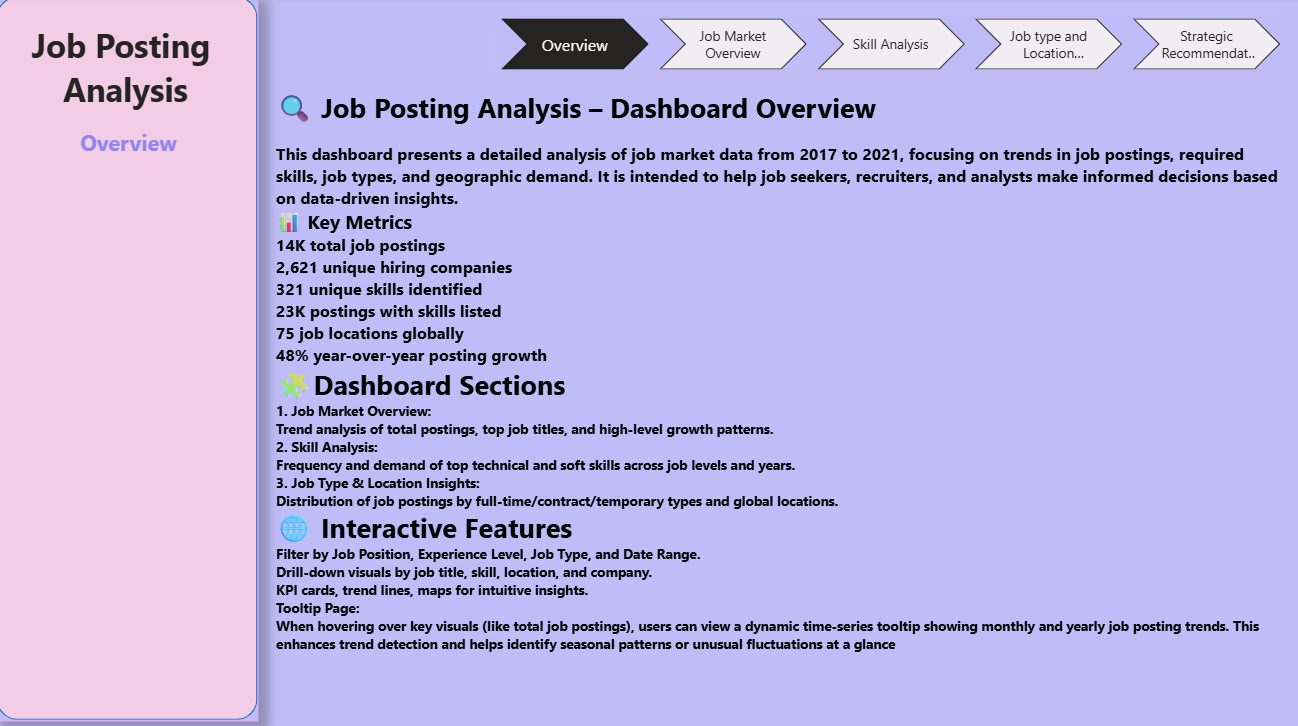

This screenshot's page, from the dashboard's own definition file:
{"tool":"powerbi","page":{"name":" Overview ","canvas":[1280,720],"ordinal":0},"visuals":[{"type":"shape","box":[0,0,257.7,711.7],"z":0},{"type":"textbox","box":[4.9,22.1,244.2,160.7],"z":1000},{"type":"textbox","box":[269.9,85.9,993.9,611],"z":2000},{"type":"pageNavigator","box":[495.7,22.1,768.1,50.3],"z":3000}]}

Visuals, with their boxes in screenshot pixels (x1, y1, x2, y2), scaled from the page's 1280x720 canvas onto the 1298x726 screenshot:
shape: box(0, 0, 261, 718)
textbox: box(5, 22, 253, 184)
textbox: box(274, 87, 1282, 703)
pageNavigator: box(503, 22, 1282, 73)
